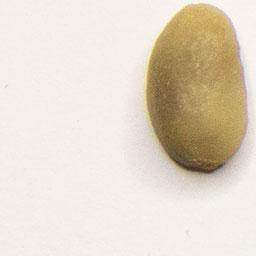longberry: (142, 1, 252, 176)
